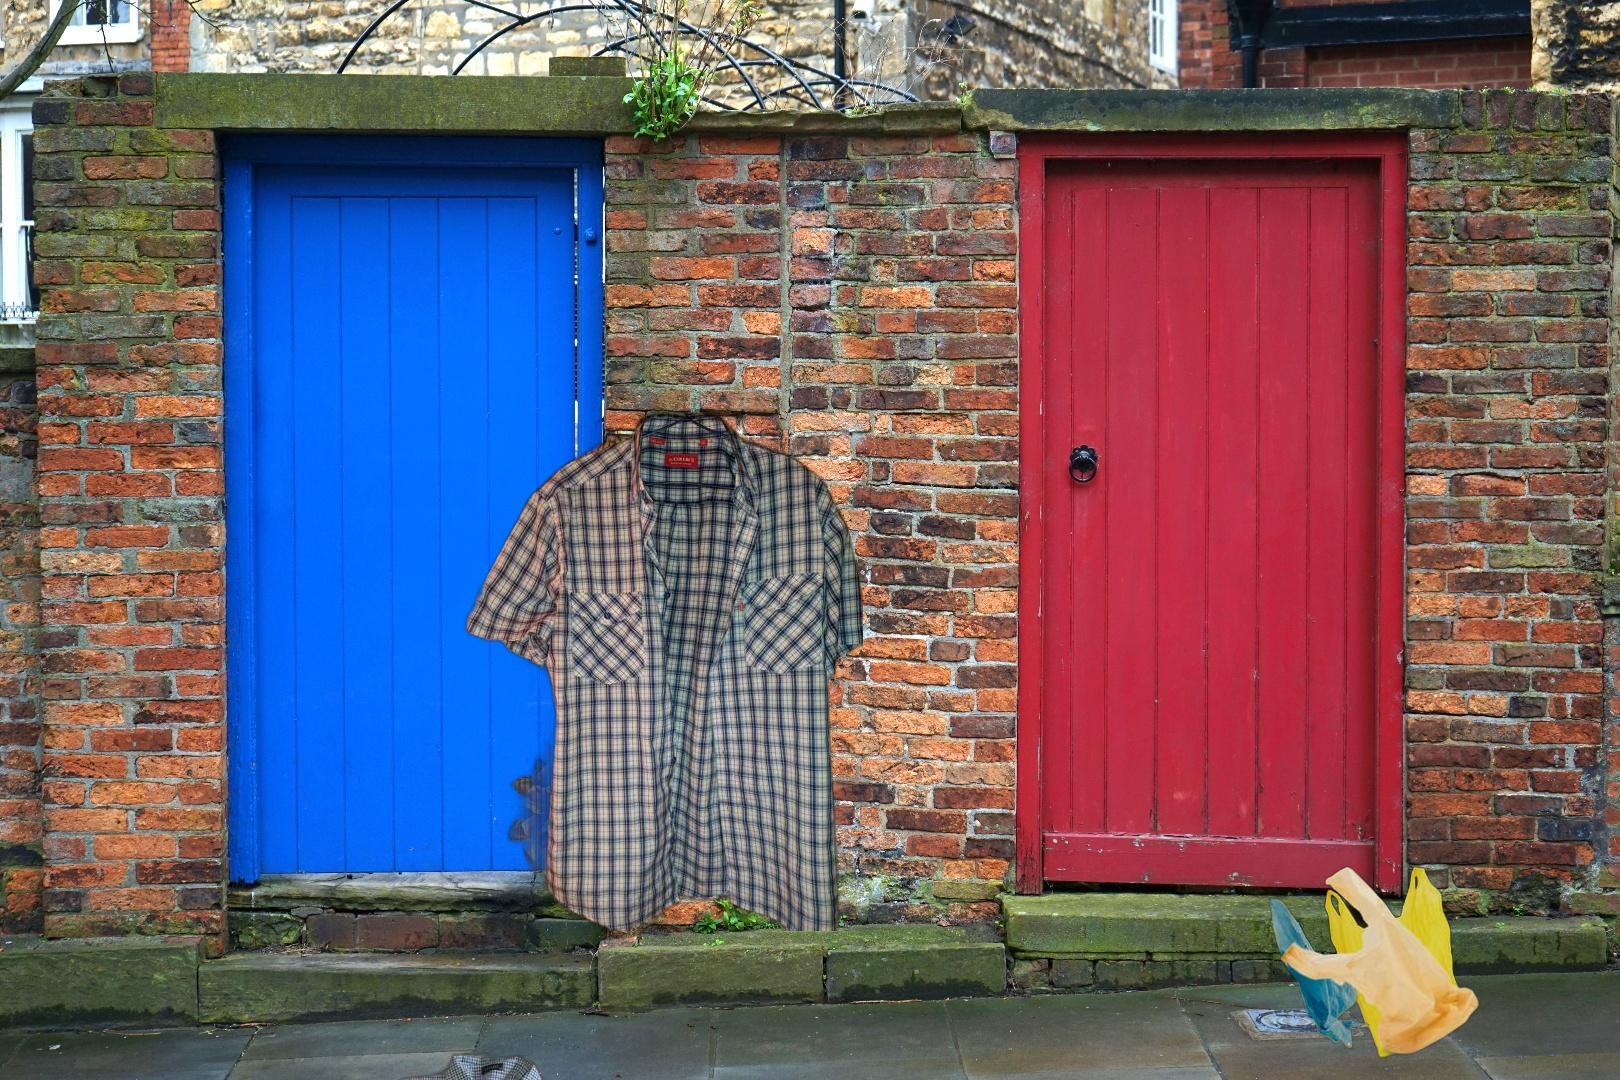clothes: (463, 407, 863, 931), (301, 1047, 681, 1080)
plastic-bag: (1266, 863, 1483, 1061)
